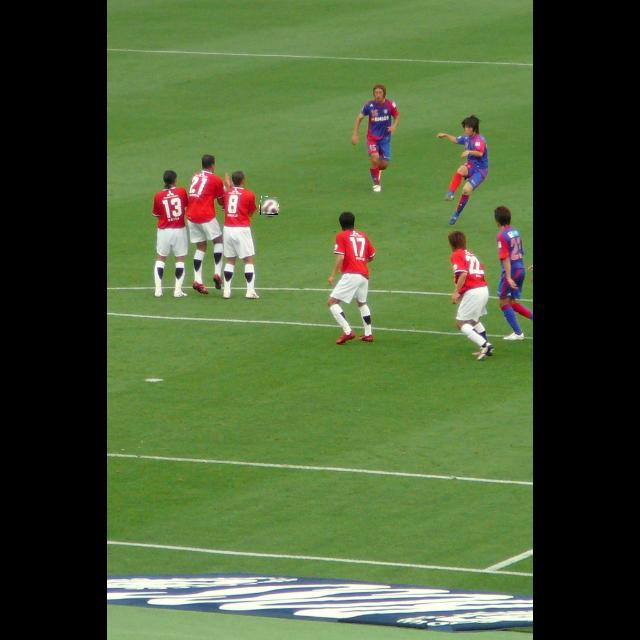Football: (260, 197, 278, 215)
